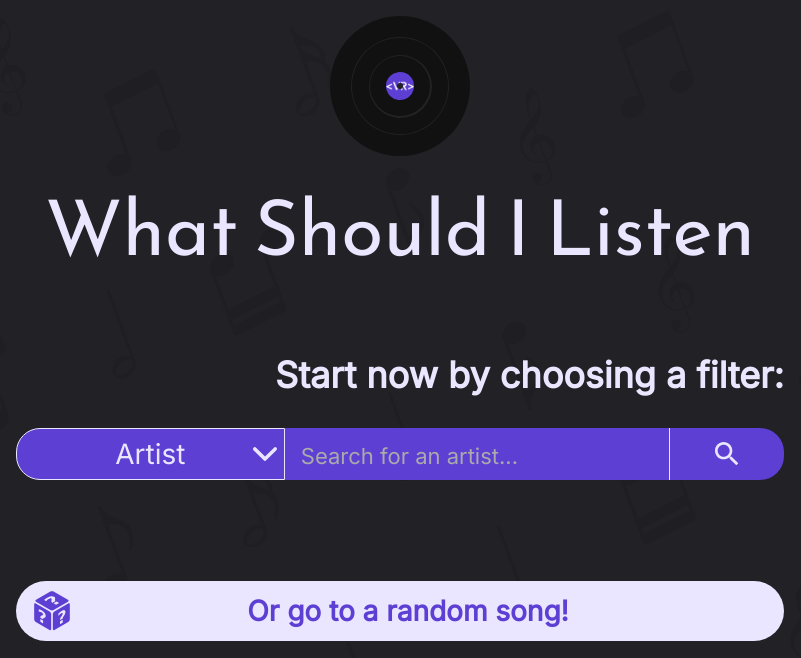
Test: Testes Página Home: › Seta Pra Baixo Funcionando
Click the icon with test id "setaBaixo" at (265, 454), box [253,442,277,466]
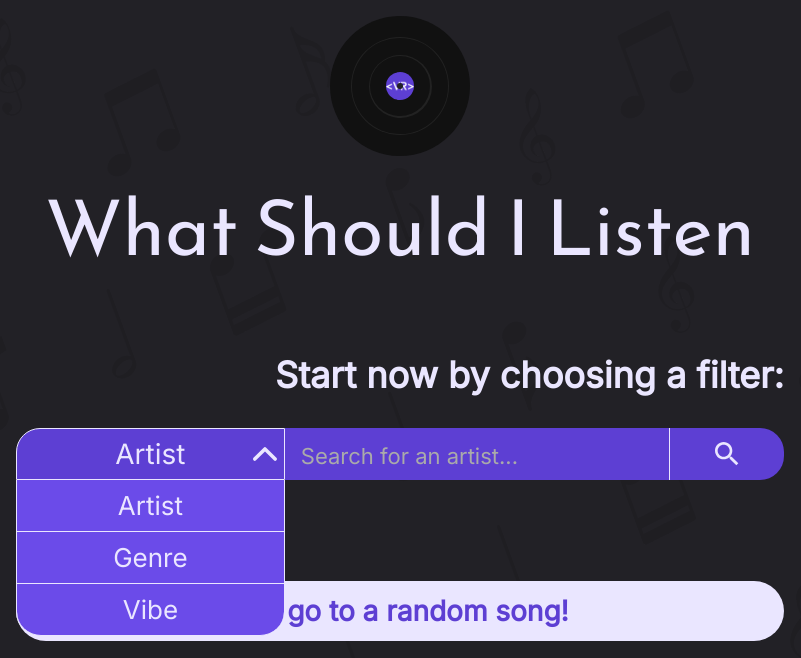
Expected: the icon with test id "setaCima" is shown, [253,442,277,466]
